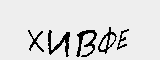В: (76, 28, 97, 59)
Е: (116, 26, 130, 51)
И: (45, 27, 71, 59)
Ф: (97, 25, 118, 55)
Х: (25, 26, 47, 54)
